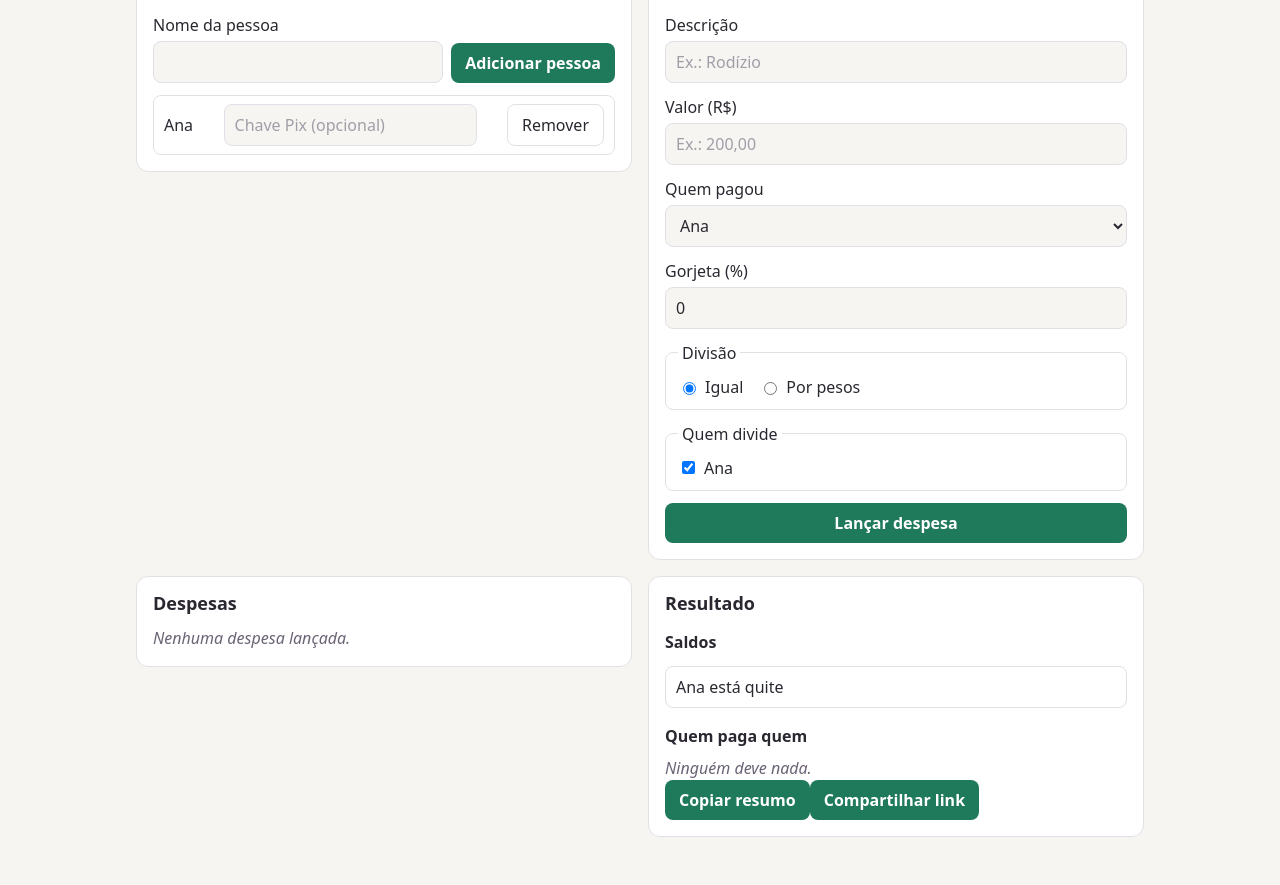
Test: App › deve avisar que o link ficou longo quando ele passa de 2000 caracteres
The width and height of the screenshot is (1280, 885).
(page scrolled)
Click the button "Compartilhar link": (894,800) [810, 780, 979, 820]
(page scrolled)
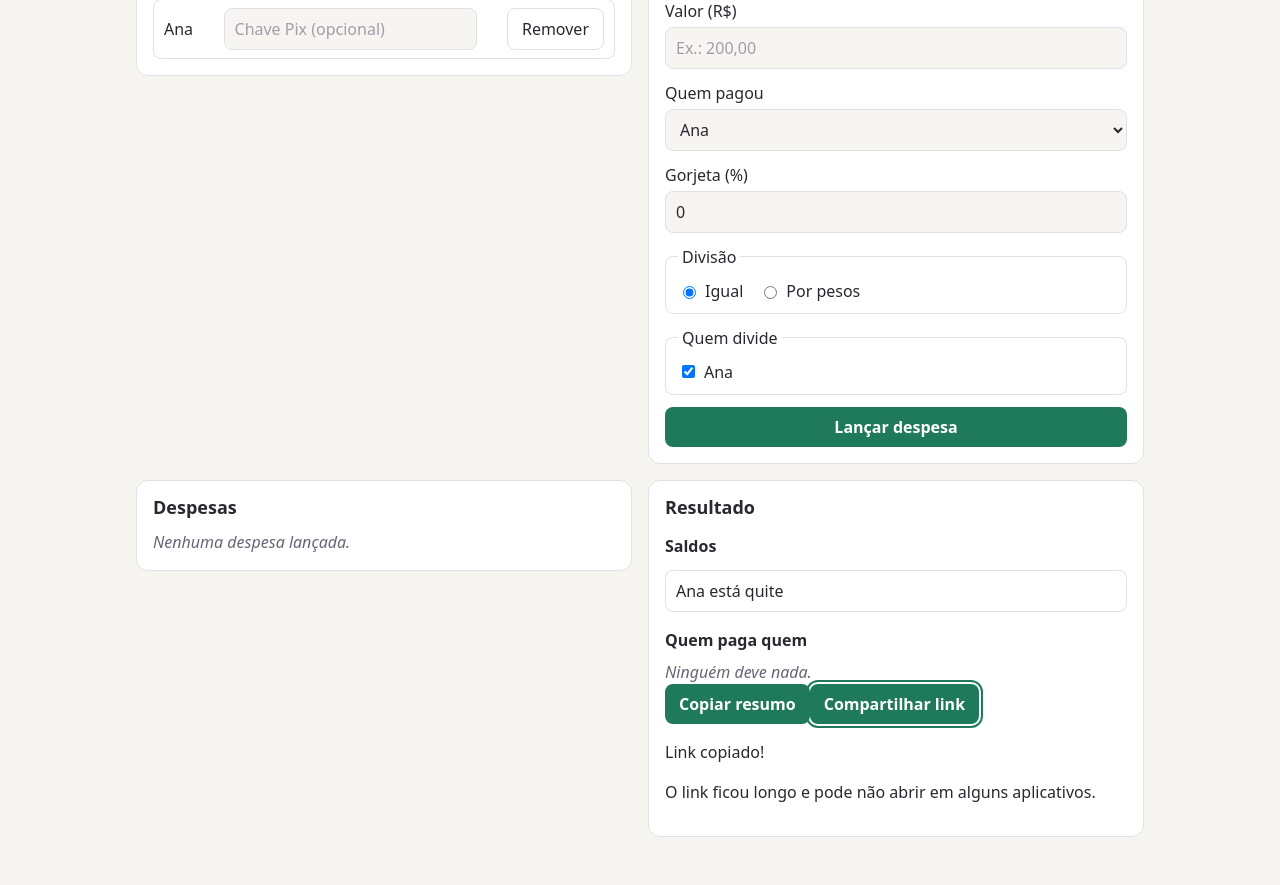
Check: the message shows "O link ficou longo", box [665, 781, 1096, 803]
